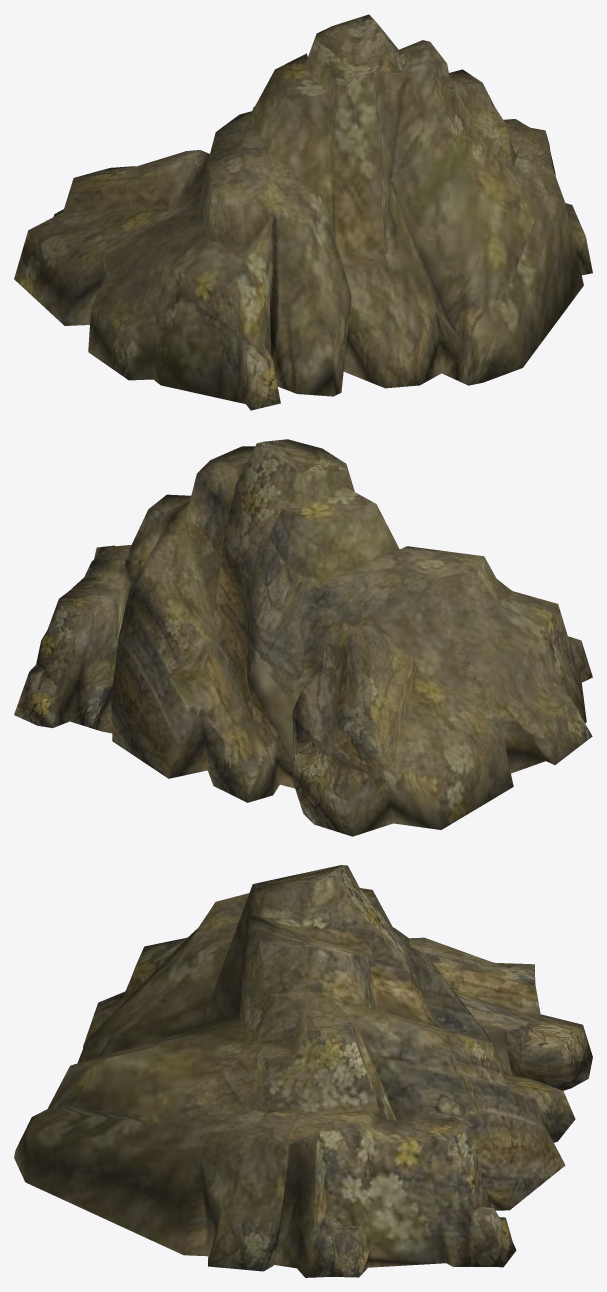
Rendered from rock-outcrop-01.glb.
3 renders of one model, top to bottom at view 1: azimuth 30°, elevation 25°; view 2: azimuth 150°, elevation 25°; view 3: azimuth 270°, elevation 25°, orthographic. The views are drawn at different scales.
Size of the model in its own units: 0.9565 by 0.4966 by 0.8765.
1 material, 1 textured.
